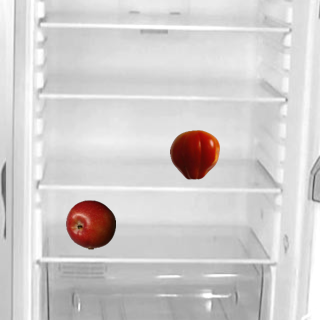Apple Braeburn: (65, 199, 115, 249)
Tomato 1: (169, 129, 219, 179)
